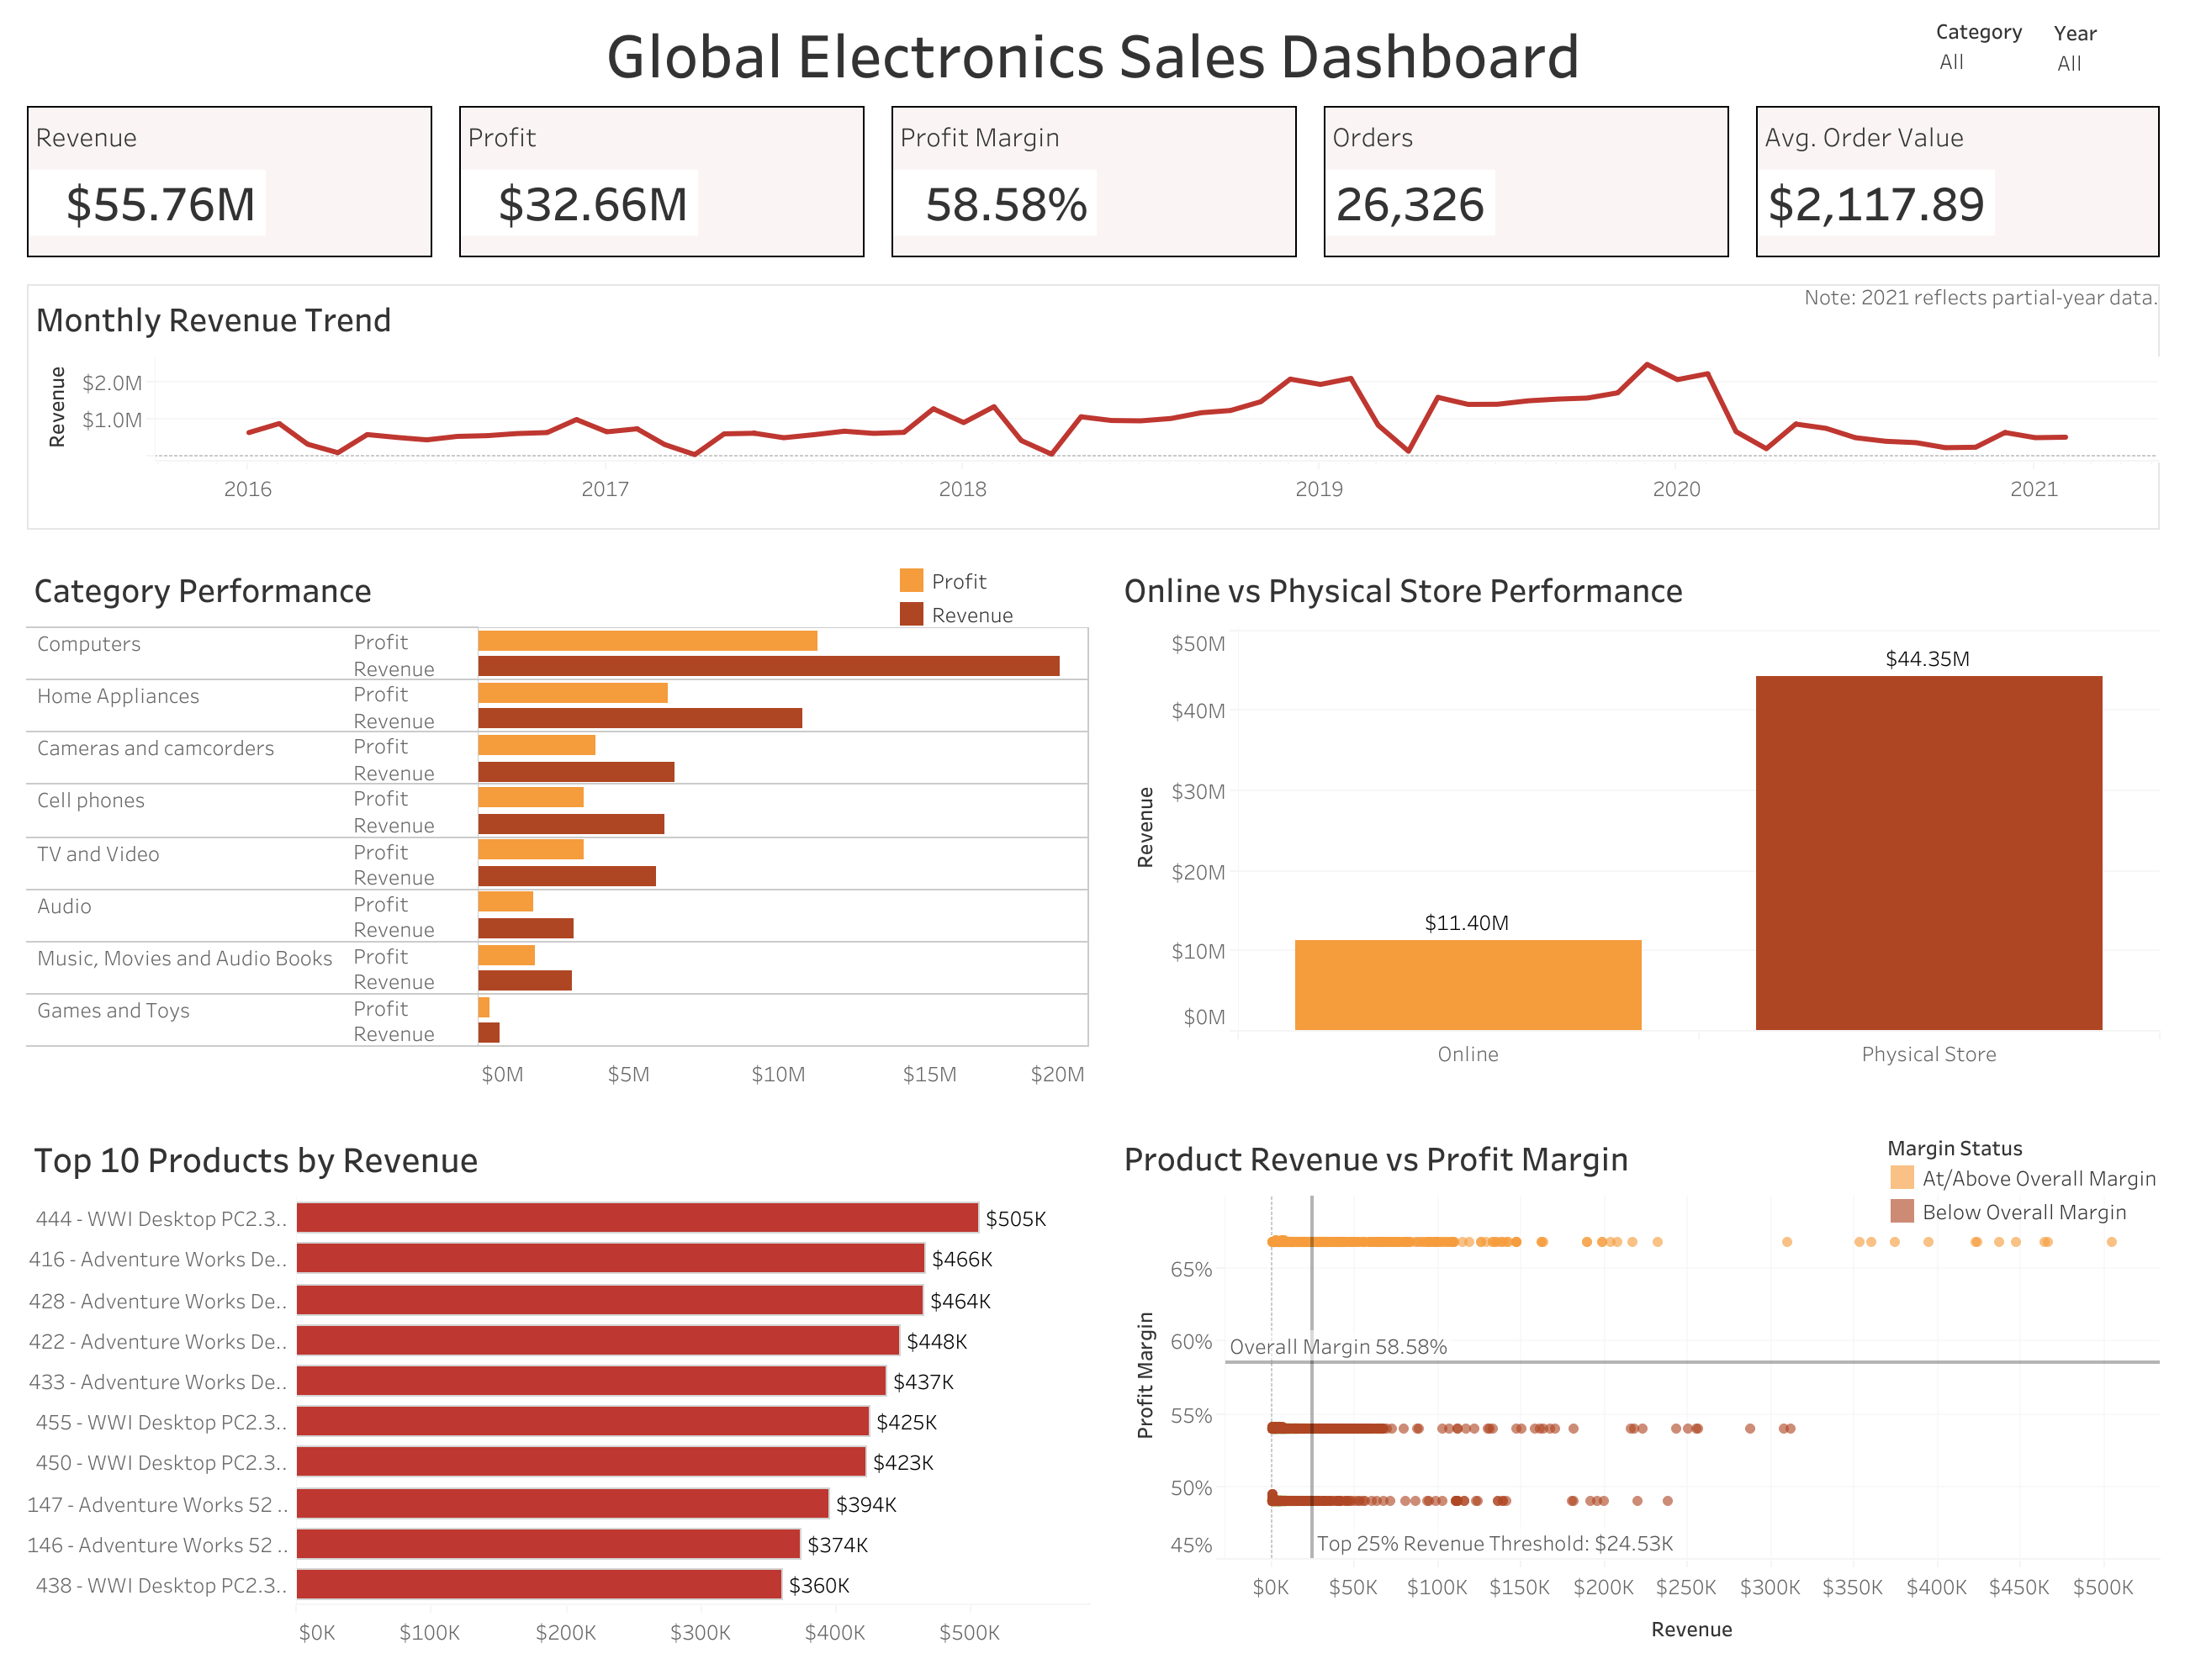

Layout of this report page (visuals, bound fields, positions):
{"tool":"tableau","page":{"name":"Global Electronics Sales Dashboard","canvas":[1300,1000],"ordinal":0},"visuals":[{"type":"filter","title":"Monthly Revenue Trend","param":"[federated.0y7t52h0mz794l172xk011lpowfd].[yr:order_date:ok]","box":[1219,7,63,47]},{"type":"title","box":[8,8,1284,47]},{"type":"filter","title":"Category Performance","param":"[federated.0y7t52h0mz794l172xk011lpowfd].[none:category:nk]","box":[1151,8,63,47]},{"type":"worksheet","title":"KPI - Revenue","mark":"Automatic","box":[8,55,257,106]},{"type":"worksheet","title":"KPI - Profit","mark":"Automatic","box":[265,55,257,106]},{"type":"worksheet","title":"KPI- Profit Margin","mark":"Automatic","box":[522,55,257,106]},{"type":"worksheet","title":"KPI - Orders","mark":"Automatic","box":[779,55,257,106]},{"type":"worksheet","title":"KPI - Average Order Value","mark":"Automatic","box":[1036,55,256,106]},{"type":"text","box":[1070,157,223,38]},{"type":"worksheet","title":"Monthly Revenue Trend","mark":"Automatic","rows":["revenue"],"cols":["order_date"],"box":[8,161,1284,162.1]},{"type":"worksheet","title":"Category Performance","mark":"Automatic","rows":["category"],"box":[8,323.1,648,337.9]},{"type":"worksheet","title":"Online vs Physical Store Performance","mark":"Automatic","rows":["revenue"],"cols":["sales_channel"],"box":[656,323.1,636,337.9]},{"type":"legend","title":"Category Performance","param":"[federated.0y7t52h0mz794l172xk011lpowfd].[:Measure Names]","box":[532,335,136,70]},{"type":"worksheet","title":"Top 10 Products by Revenue","mark":"Automatic","rows":["Calculation_0620852009799682"],"cols":["revenue"],"box":[8,661,648,331]},{"type":"worksheet","title":"Product Revenue vs Profit Margin","mark":"Circle","rows":["Calculation_0620851995467776"],"cols":["revenue"],"box":[656,661,636,331]},{"type":"legend","title":"Product Revenue vs Profit Margin","param":"[federated.0y7t52h0mz794l172xk011lpowfd].[usr:Calculation_0620852039077894:nk]","box":[1121,671,180,67]}]}

Visuals, with their boxes in screenshot pixels (x1, y1, x2, y2), scaled from the page's 1300x1000 canvas onto the 2185x1680 screenshot:
"Monthly Revenue Trend" filter: region(2049, 12, 2155, 91)
title: region(13, 13, 2172, 92)
"Category Performance" filter: region(1934, 13, 2040, 92)
"KPI - Revenue" worksheet: region(13, 92, 446, 271)
"KPI - Profit" worksheet: region(446, 92, 877, 271)
"KPI- Profit Margin" worksheet: region(877, 92, 1309, 271)
"KPI - Orders" worksheet: region(1309, 92, 1741, 271)
"KPI - Average Order Value" worksheet: region(1741, 92, 2172, 271)
text: region(1798, 264, 2173, 328)
"Monthly Revenue Trend" worksheet: region(13, 271, 2172, 543)
"Category Performance" worksheet: region(13, 543, 1103, 1111)
"Online vs Physical Store Performance" worksheet: region(1103, 543, 2172, 1111)
"Category Performance" legend: region(894, 563, 1123, 680)
"Top 10 Products by Revenue" worksheet: region(13, 1111, 1103, 1667)
"Product Revenue vs Profit Margin" worksheet (Circle marks): region(1103, 1111, 2172, 1667)
"Product Revenue vs Profit Margin" legend: region(1884, 1128, 2184, 1240)
